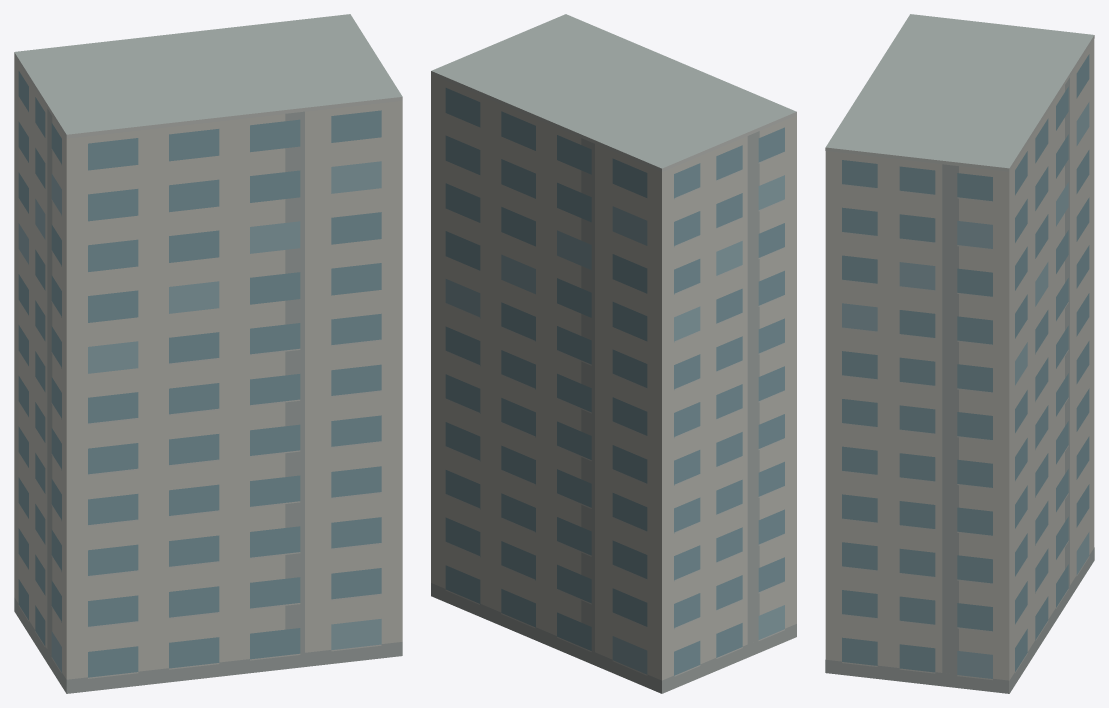
The model's file is residential-58a40b3b-c3ac-4130-9569-4f69c896af38.glb.
The picture shows the model from 3 angles, left to right: view 1: azimuth 30°, elevation 25°; view 2: azimuth 150°, elevation 25°; view 3: azimuth 270°, elevation 25°; orthographic projection. The views are drawn at different scales.
Visible parts, largest first — view 1: residential-58a40b3b-c3ac-4130-9569-4f69c896af38.tmp; view 2: residential-58a40b3b-c3ac-4130-9569-4f69c896af38.tmp; view 3: residential-58a40b3b-c3ac-4130-9569-4f69c896af38.tmp.
Part boxes in pixels (box(x1,y1,x2,y2)): residential-58a40b3b-c3ac-4130-9569-4f69c896af38.tmp: box(14, 14, 402, 693); residential-58a40b3b-c3ac-4130-9569-4f69c896af38.tmp: box(431, 14, 796, 693); residential-58a40b3b-c3ac-4130-9569-4f69c896af38.tmp: box(825, 14, 1094, 693).
Bounding box in the file's own units: 22.69 × 36 × 16.71.
